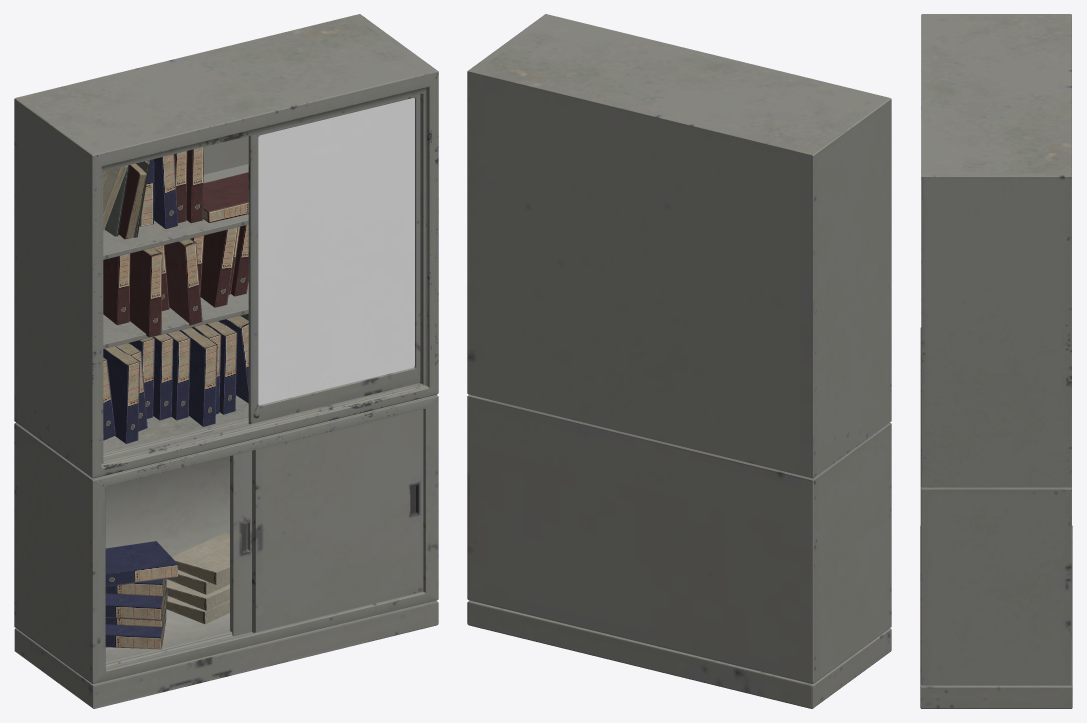
File: sm39_015_bookandcabinet03a.fbx
3 views of the same model, side by side, from view 1: azimuth 30°, elevation 25°; view 2: azimuth 150°, elevation 25°; view 3: azimuth 270°, elevation 25° (orthographic). The views are drawn at different scales.
Visible parts, largest first — view 1: LOD_1_Group_0_Sub_2__sm30_028_OfficeCabinet03A_A_Mat1, LOD_1_Group_0_Sub_1__sm36_007_PaperWork01A_A_Mat2, LOD_1_Group_0_Sub_3__sm30_028_OfficeCabinet03A_B_Mat1; view 2: LOD_1_Group_0_Sub_2__sm30_028_OfficeCabinet03A_A_Mat1; view 3: LOD_1_Group_0_Sub_2__sm30_028_OfficeCabinet03A_A_Mat1.
Boxes of the visible parts, x1=… form: LOD_1_Group_0_Sub_2__sm30_028_OfficeCabinet03A_A_Mat1: x1=14, y1=14, x2=438, y2=708; LOD_1_Group_0_Sub_1__sm36_007_PaperWork01A_A_Mat2: x1=103, y1=147, x2=248, y2=649; LOD_1_Group_0_Sub_3__sm30_028_OfficeCabinet03A_B_Mat1: x1=258, y1=98, x2=414, y2=405; LOD_1_Group_0_Sub_2__sm30_028_OfficeCabinet03A_A_Mat1: x1=467, y1=14, x2=891, y2=708; LOD_1_Group_0_Sub_2__sm30_028_OfficeCabinet03A_A_Mat1: x1=920, y1=14, x2=1072, y2=708.
Bounding box in the file's own units: 1.48 × 2.26 × 0.5848.
